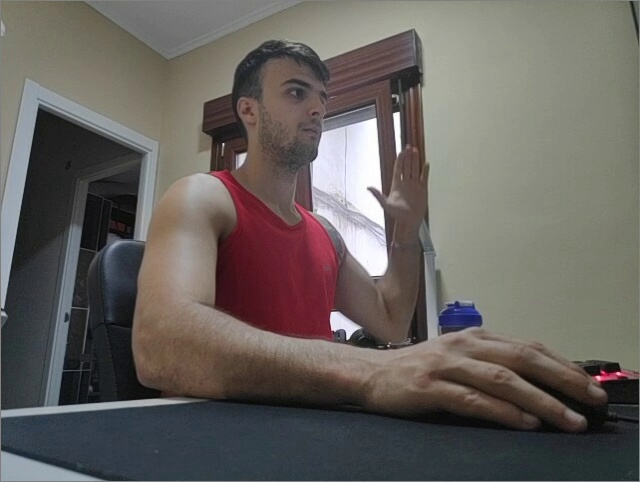Palm: (366, 143, 430, 227)
